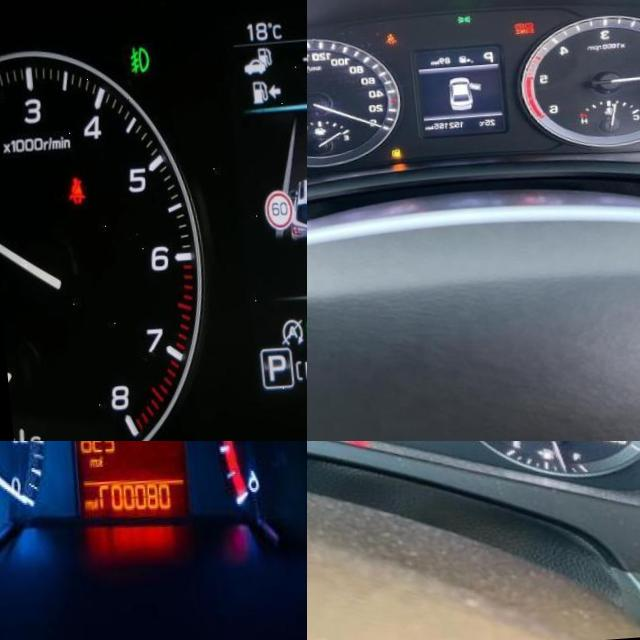Seat Belt: (59, 177, 80, 209), (381, 37, 392, 50)
